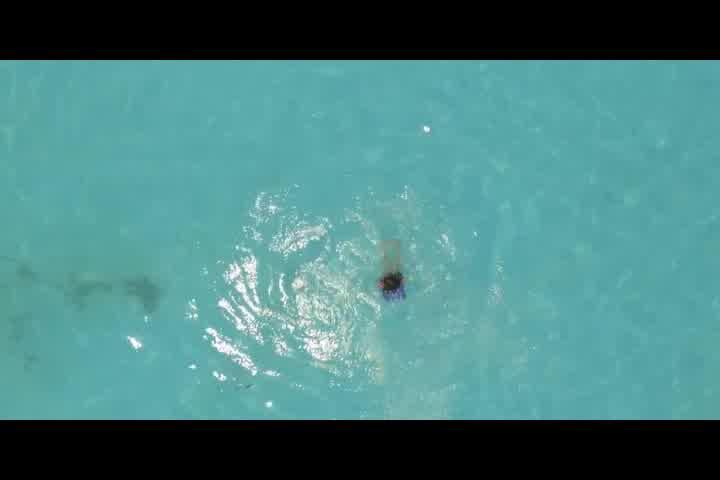human: (376, 272, 410, 303)
